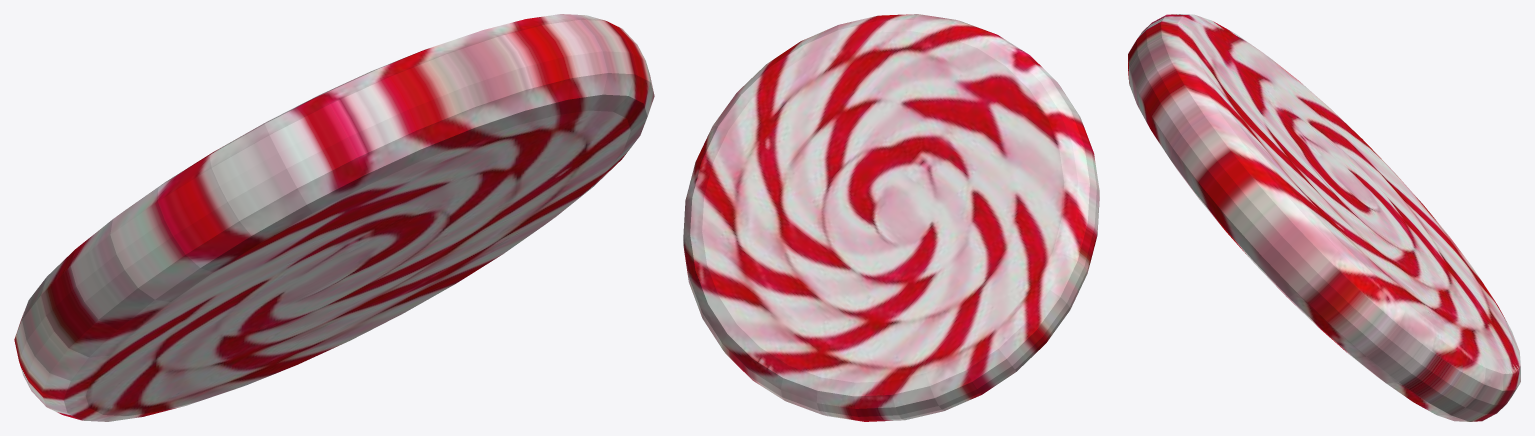
The model's file is Loli-Flach-Spirale-CW.001.gltf.
3 renders of one model, left to right at view 1: azimuth 30°, elevation 25°; view 2: azimuth 150°, elevation 25°; view 3: azimuth 270°, elevation 25°, orthographic. The views are drawn at different scales.
Visible parts, largest first — view 1: Loli-Flach-Spirale-CW.001; view 2: Loli-Flach-Spirale-CW.001; view 3: Loli-Flach-Spirale-CW.001.
Part boxes in pixels (x1,y1,x2,y2): Loli-Flach-Spirale-CW.001: (14,14,654,421); Loli-Flach-Spirale-CW.001: (683,14,1099,421); Loli-Flach-Spirale-CW.001: (1128,14,1520,421).
Size of the model in its own units: 1.99 by 1.53 by 1.51.
1 material, 1 textured.
